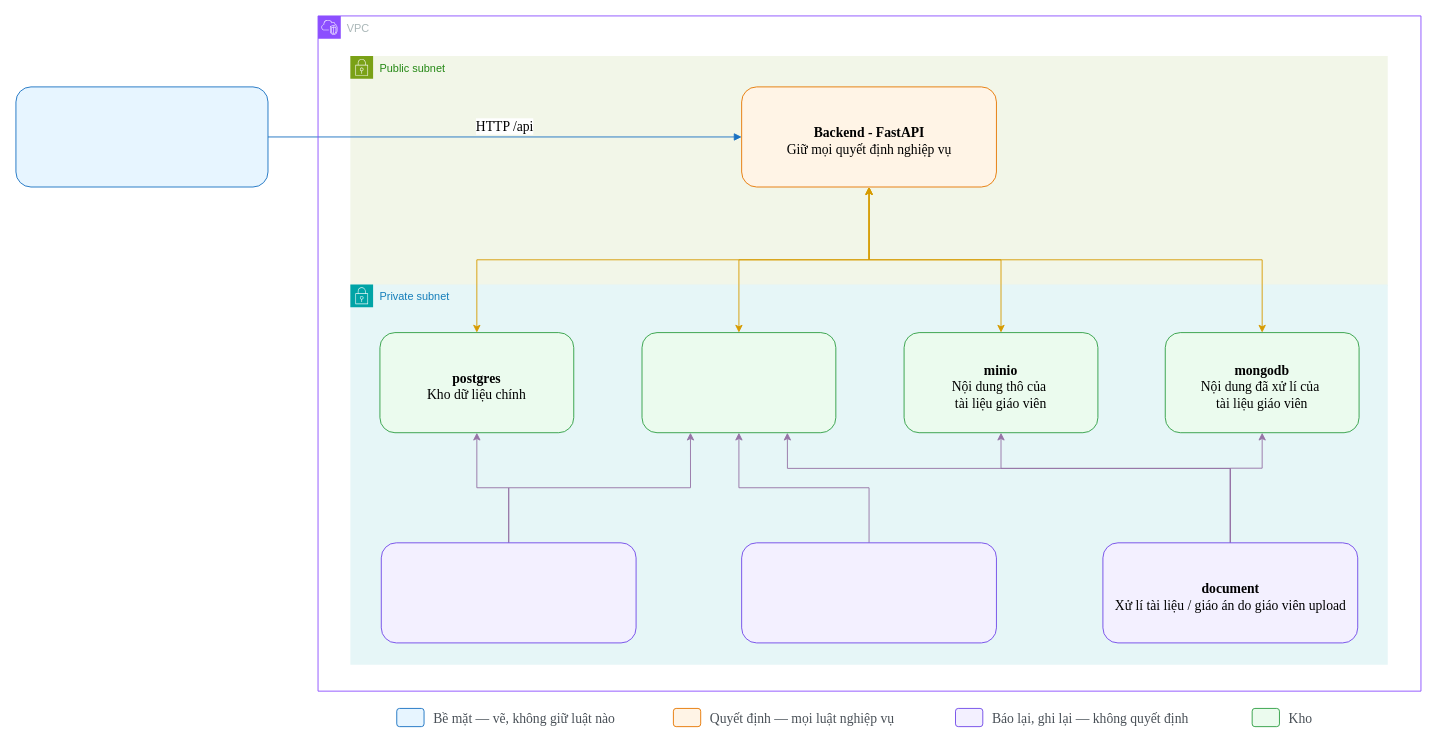
Some shapes in this 1437 by 743 pixel diagram are drawn without their labels. The shapes that lost their labels are listed below. From the top down, each one's centre as x and y in pixels, then its label:
At pixel 141 136: "Frontend - React".
At pixel 738 382: "redis Hàng đợi và lưu cache".
At pixel 508 592: "ingest Đẩy dữ liệu bất đồng bộ".
At pixel 868 592: "agent Trợ lí hỗ trợ giáo viên và học sinh".
